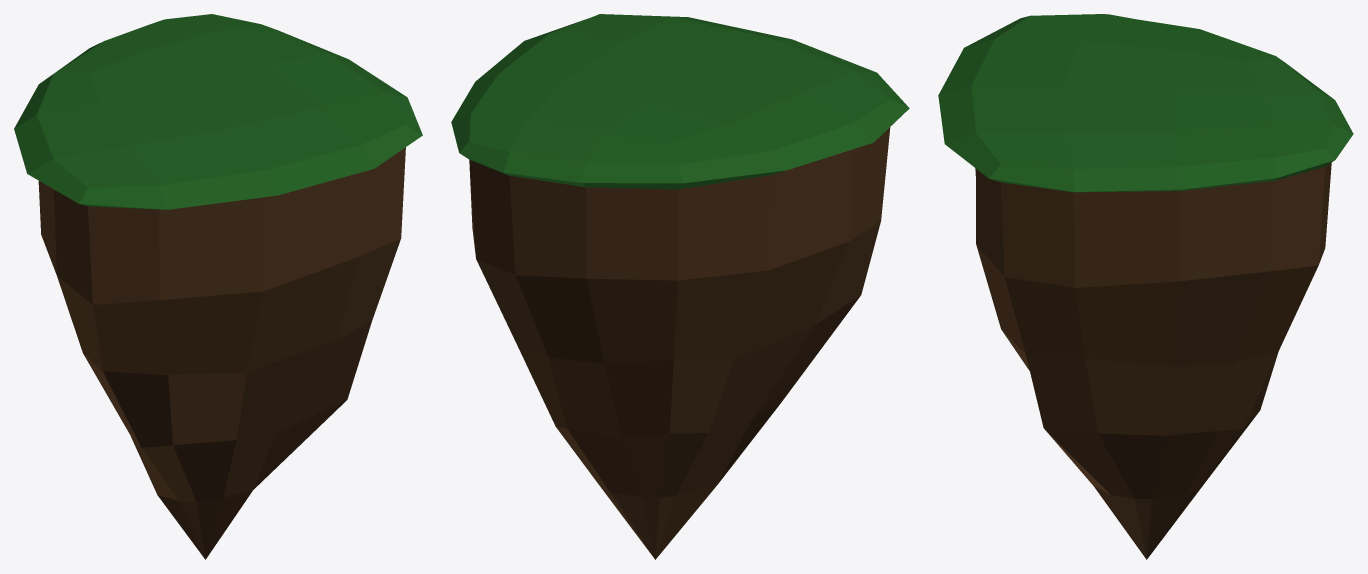
File: InselTest1.fbx
The picture shows the model from 3 angles, left to right: view 1: azimuth 30°, elevation 25°; view 2: azimuth 150°, elevation 25°; view 3: azimuth 270°, elevation 25°; orthographic projection.
Parts seen in each view (by area): view 1: island_small_01; view 2: island_small_01; view 3: island_small_01.
Boxes of the visible parts, left/top/right/bottom form: island_small_01: left=14, top=14, right=422, bottom=559; island_small_01: left=451, top=14, right=909, bottom=559; island_small_01: left=938, top=14, right=1353, bottom=559.
Size of the model in its own units: 1389 by 1702 by 1371.
